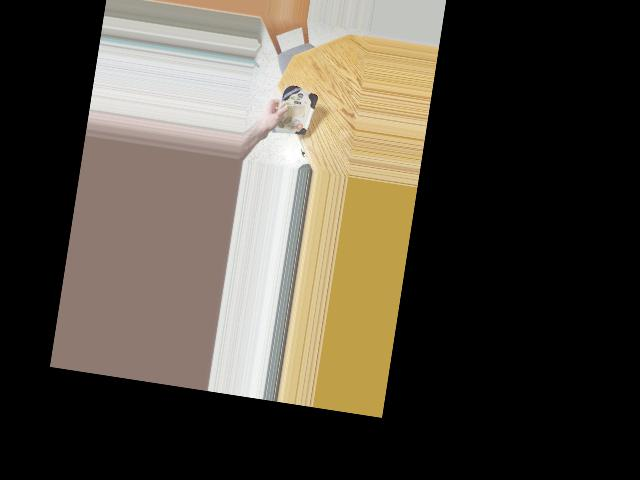cheese: (271, 81, 317, 148)
